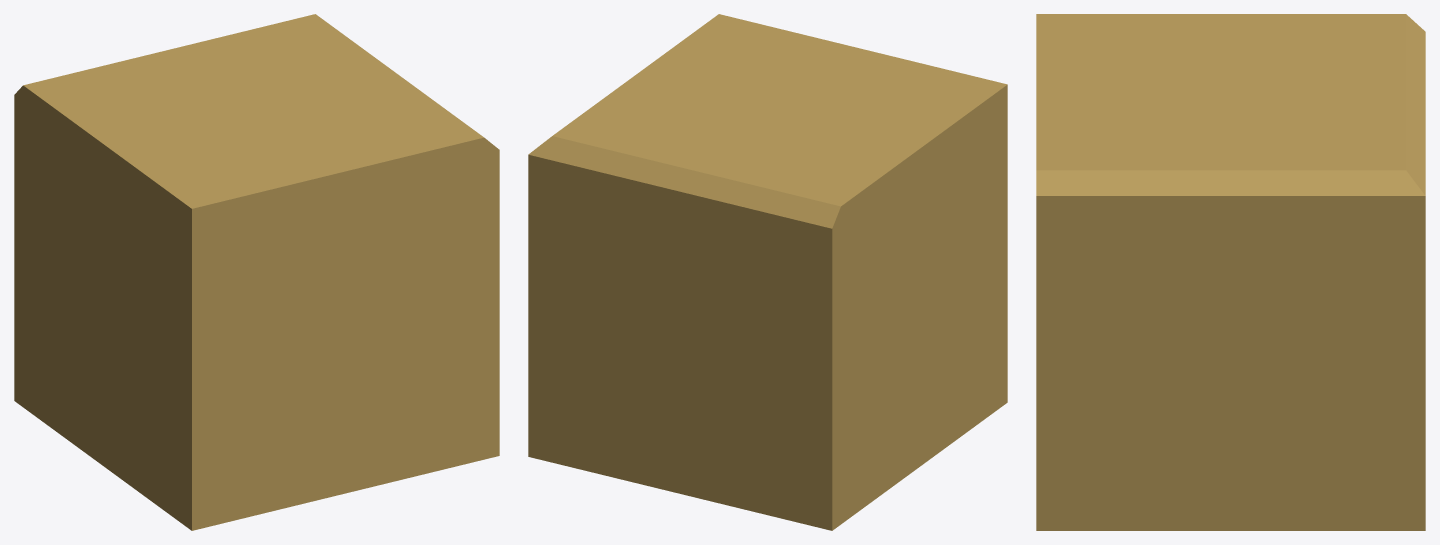
Rendered from wall_2.fbx.
The picture shows the model from 3 angles, left to right: view 1: azimuth 30°, elevation 25°; view 2: azimuth 150°, elevation 25°; view 3: azimuth 270°, elevation 25°; orthographic projection. The views are drawn at different scales.
Parts seen in each view (by area): view 1: wall_2; view 2: wall_2; view 3: wall_2.
Boxes of the visible parts, left/top/right/bottom form: wall_2: left=14, top=14, right=499, bottom=530; wall_2: left=528, top=14, right=1007, bottom=530; wall_2: left=1036, top=14, right=1425, bottom=530.
Size of the model in its own units: 100 by 100 by 100.
